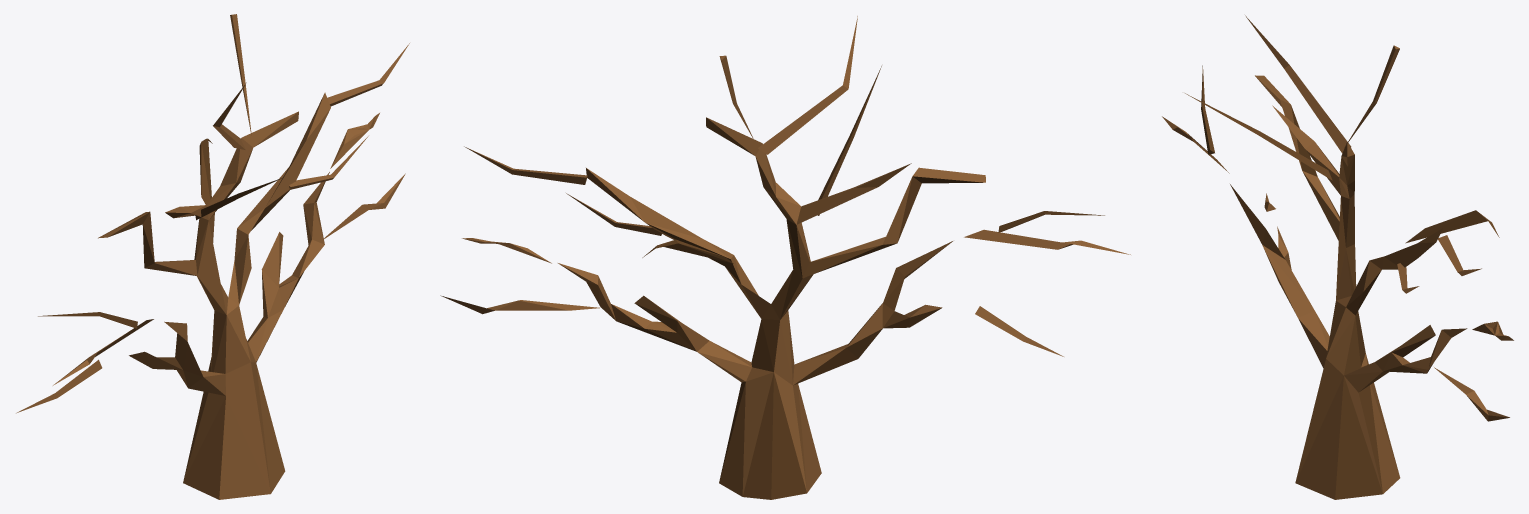
Rendered from cherry_3_bare_far.glb.
3 views of the same model, side by side, from view 1: azimuth 30°, elevation 25°; view 2: azimuth 150°, elevation 25°; view 3: azimuth 270°, elevation 25° (orthographic).
Visible parts, largest first — view 1: cherry_3_bare_far; view 2: cherry_3_bare_far; view 3: cherry_3_bare_far.
Boxes of the visible parts, box(x1,y1,x2,y2) form: cherry_3_bare_far: box(16, 14, 409, 499); cherry_3_bare_far: box(440, 16, 1130, 499); cherry_3_bare_far: box(1162, 15, 1513, 499).
Bounding box in the file's own units: 8.32 × 6.66 × 4.79.
